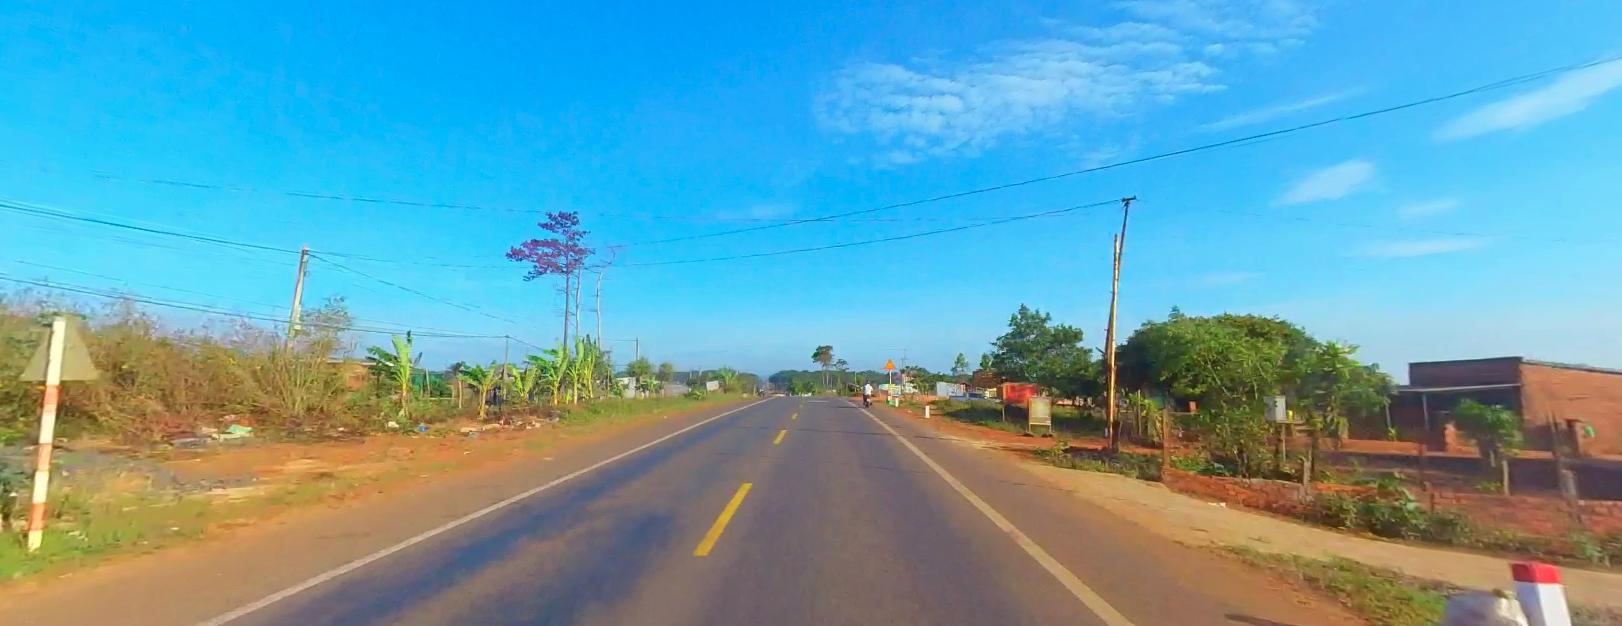Nguy hiem: (884, 356, 895, 367), (884, 357, 895, 367)
